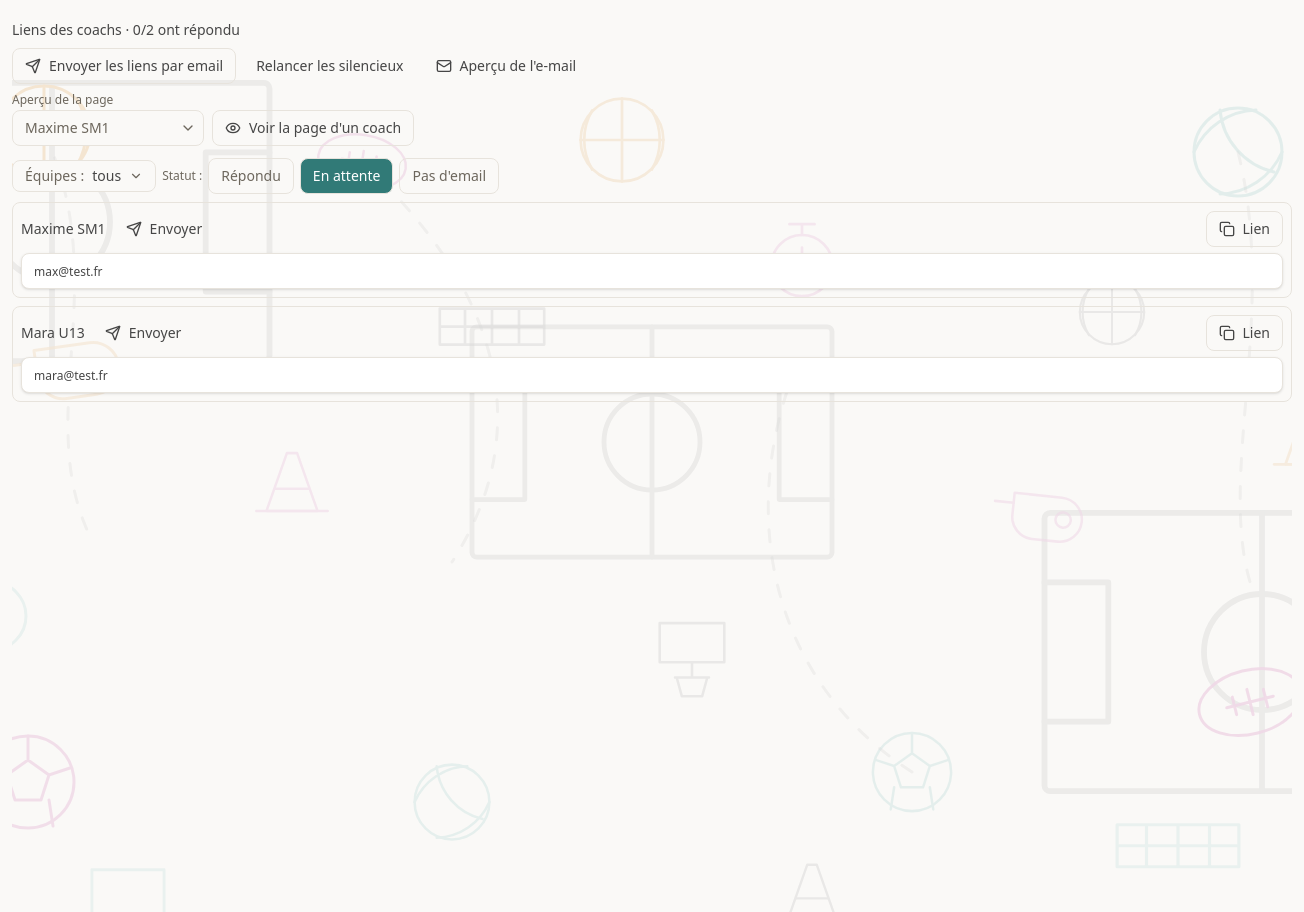
SollicitationTab › filtre la liste par équipe via le sélecteur ResourceFilter
expect the text "Maxime SM1" is shown: met, box left=21, top=219, right=106, bottom=239
expect the text "Mara U13" is shown: met, box left=21, top=323, right=85, bottom=343
Click the button "Équipes : tous".
click(84, 176)  # box left=12, top=160, right=156, bottom=192
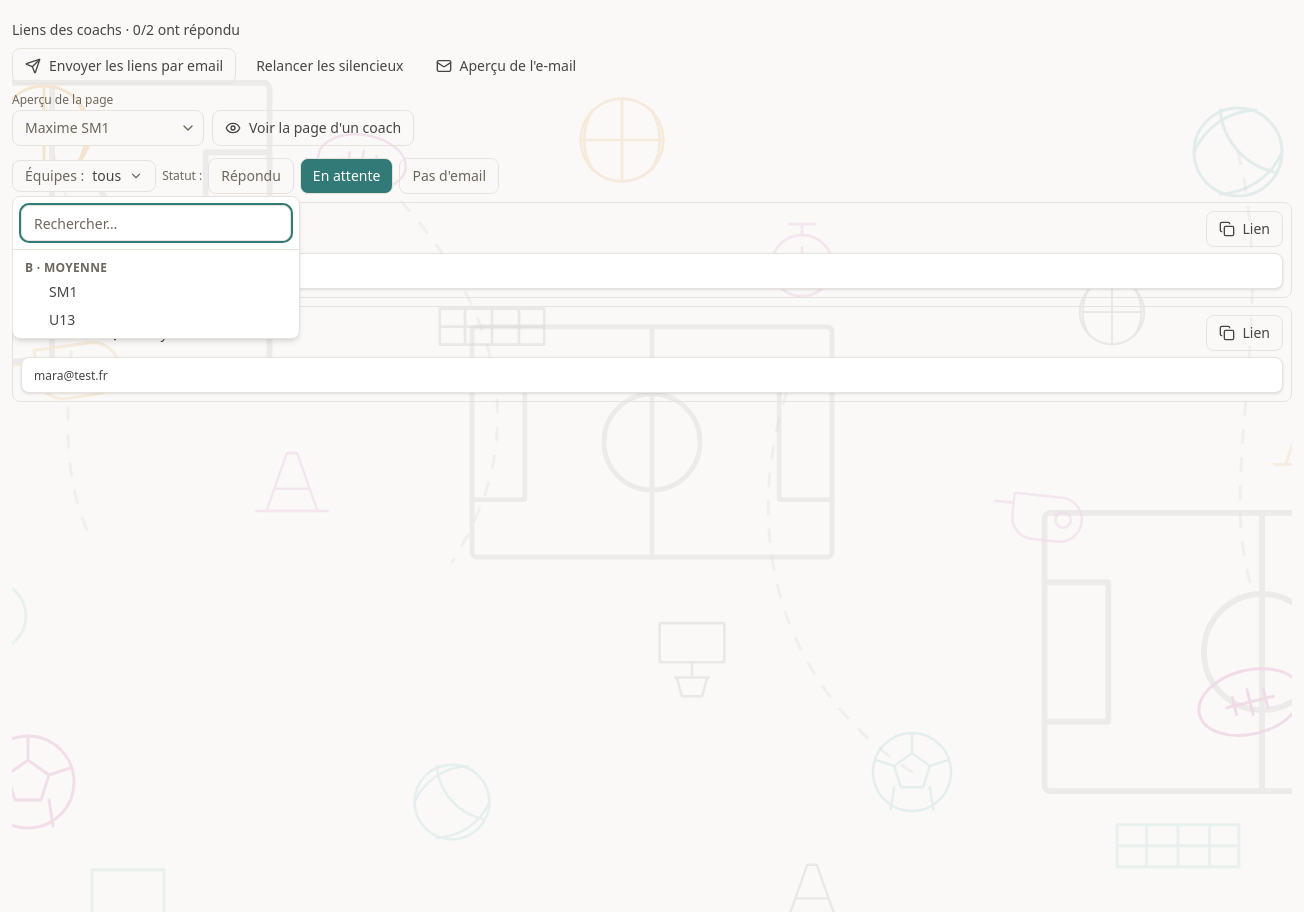
Click the button "SM1".
click(63, 292)  # box left=17, top=278, right=295, bottom=306
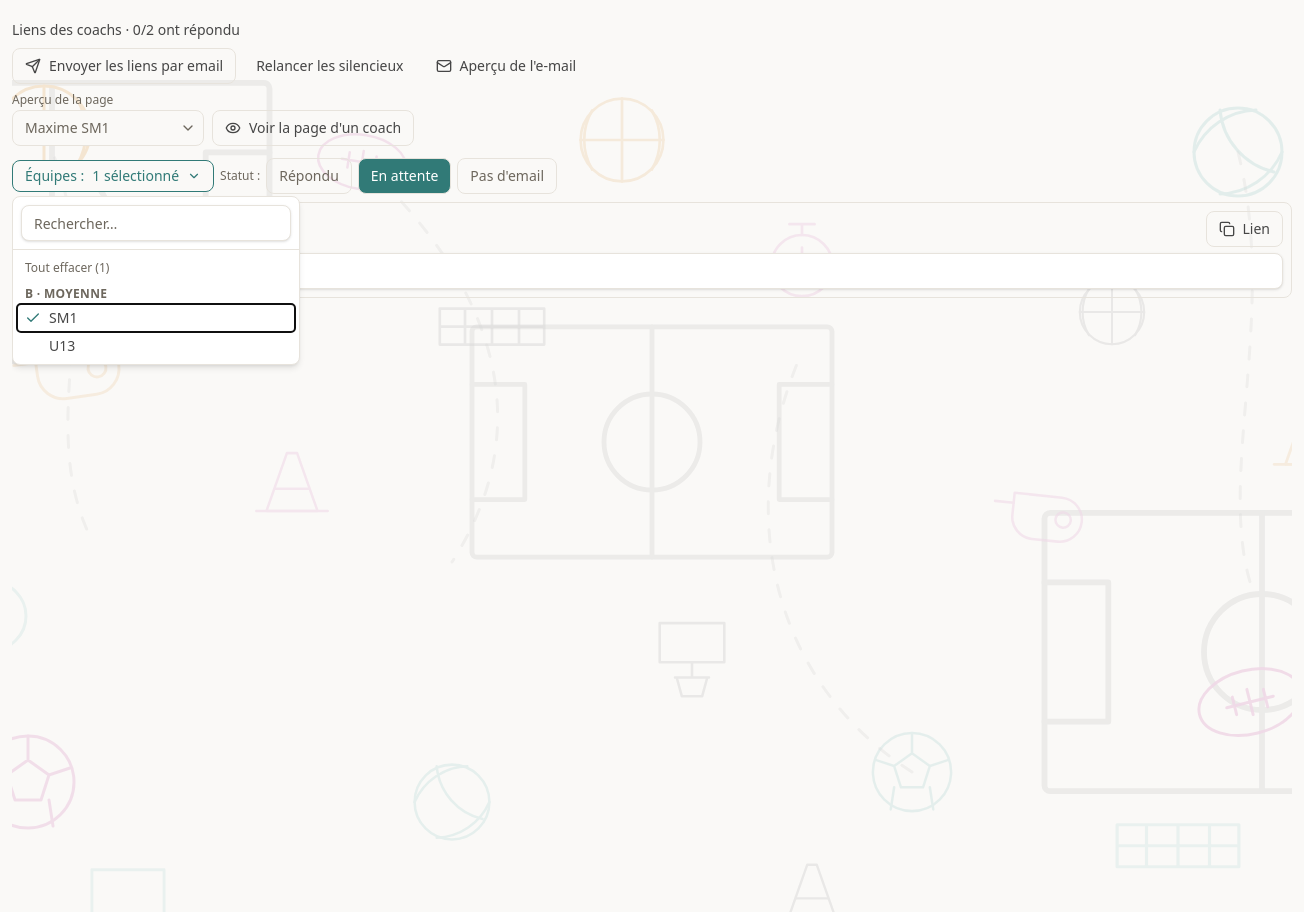
expect the text "Maxime SM1" is shown: met, box left=21, top=219, right=106, bottom=239
expect the text "Mara U13" is gone: met
